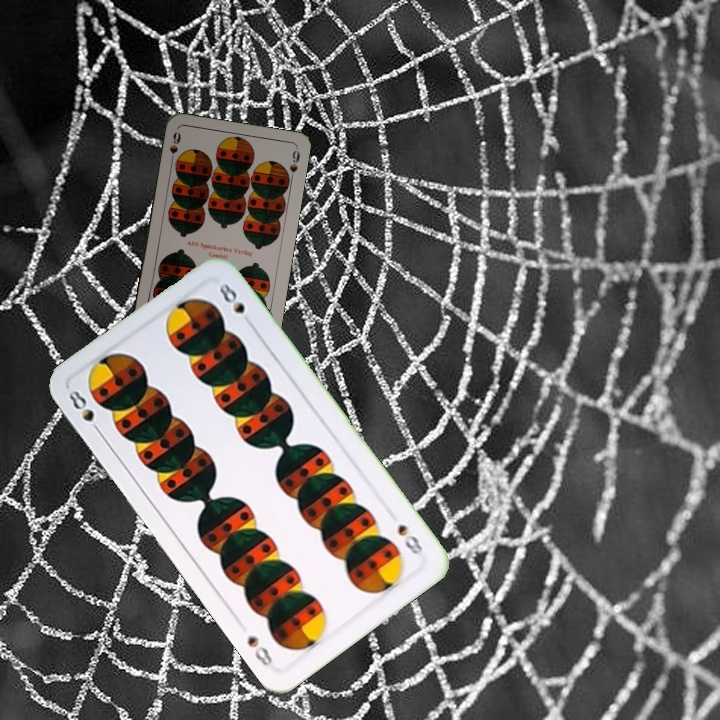S8: (61, 385, 105, 438), (393, 520, 429, 559)
S9: (165, 127, 183, 167)
